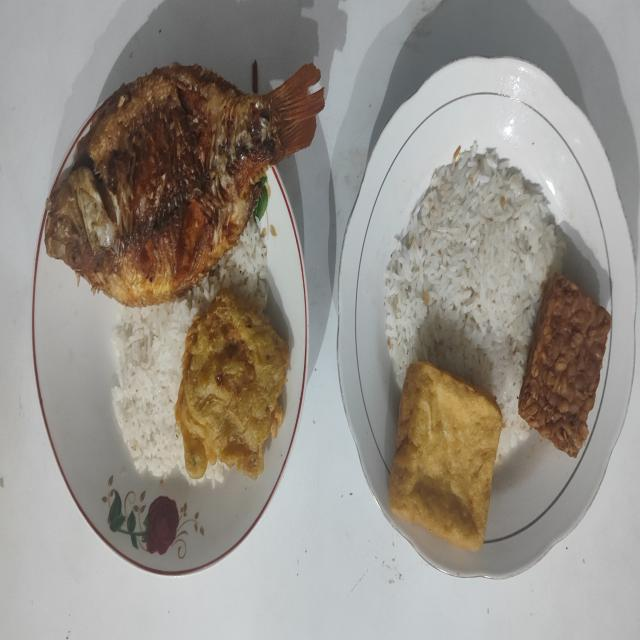ikan_mujair: (44, 63, 324, 306)
nasi_putih: (385, 142, 565, 464), (113, 220, 270, 478)
tahu_goreng: (390, 362, 502, 550)
tempe_goreng: (518, 274, 612, 456)
